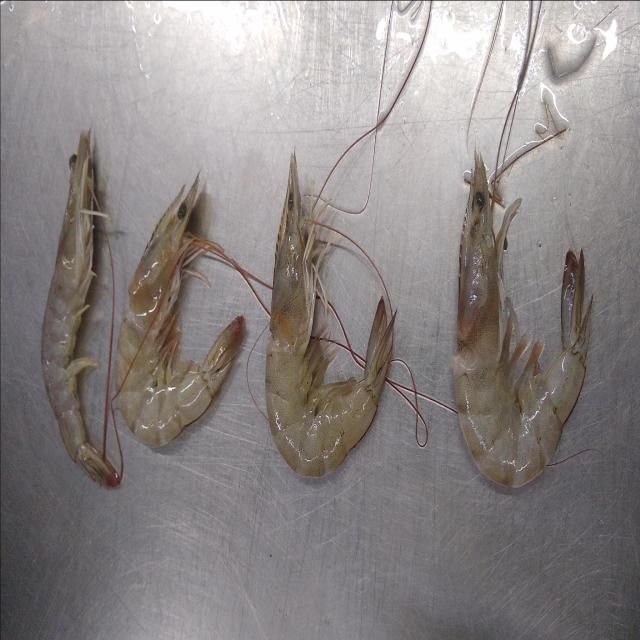shrimp: (451, 151, 592, 487), (265, 153, 395, 476), (115, 176, 245, 447), (40, 131, 120, 489)
